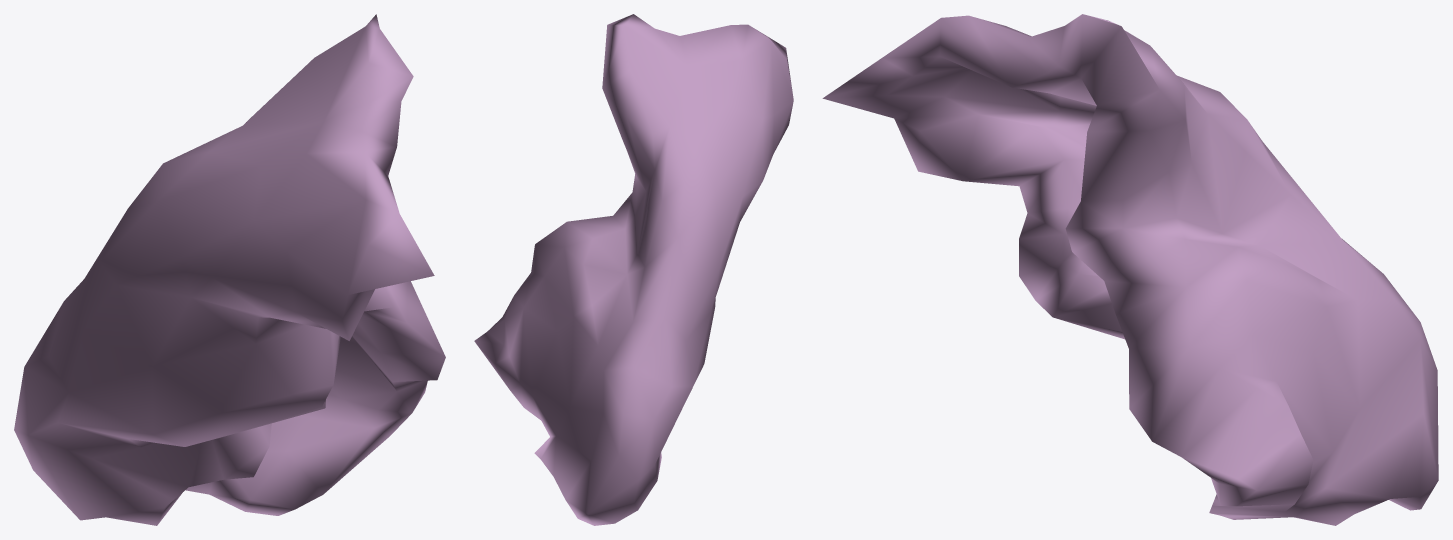
3 views of the same model, side by side, from view 1: azimuth 30°, elevation 25°; view 2: azimuth 150°, elevation 25°; view 3: azimuth 270°, elevation 25° (orthographic). The views are drawn at different scales.
Visible parts, largest first — view 1: 右侧扣带沟缘支; view 2: 右侧扣带沟缘支; view 3: 右侧扣带沟缘支.
Boxes of the visible parts, box(x1,y1,x2,y2) form: 右侧扣带沟缘支: box(14, 14, 445, 525); 右侧扣带沟缘支: box(474, 14, 793, 525); 右侧扣带沟缘支: box(822, 14, 1438, 525).
Size of the model in its own units: 0.0286 by 0.0471 by 0.0478.
